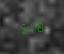eight: (37, 19, 45, 32)
five: (18, 21, 26, 34)
one: (28, 20, 36, 33)
